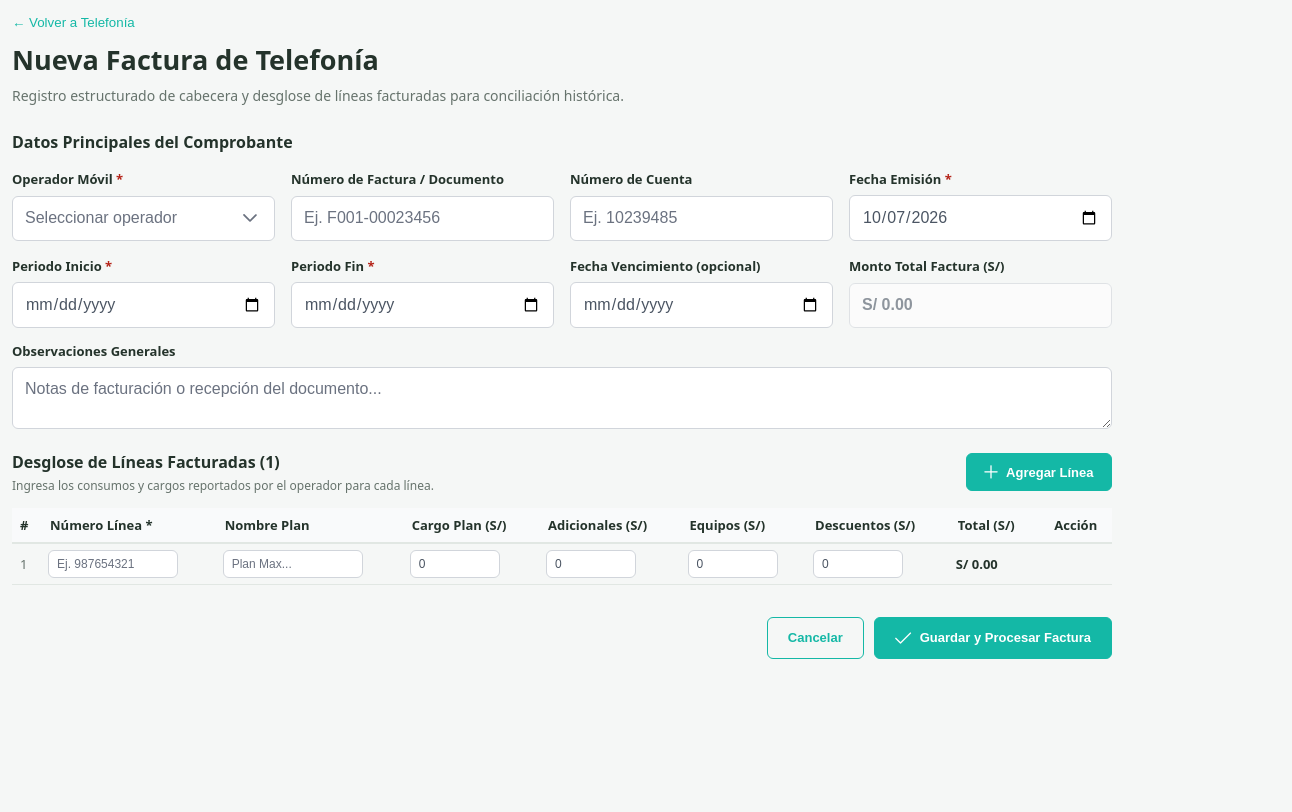
Test: Módulo de Facturación y Conciliación de Telefonía › permite registrar una nueva factura con detalle estructurado
This screenshot has width=1292, height=812.
Expected: the heading "Nueva Factura de Telefonía" is shown, x1=12 y1=41 x2=379 y2=78
Expected: the heading "Desglose de Líneas Facturadas (1)" is shown, x1=12 y1=450 x2=280 y2=472
Step 1. Click the button "Guardar y Procesar Factura" → coordinates (993, 638), box x1=874 y1=617 x2=1112 y2=659
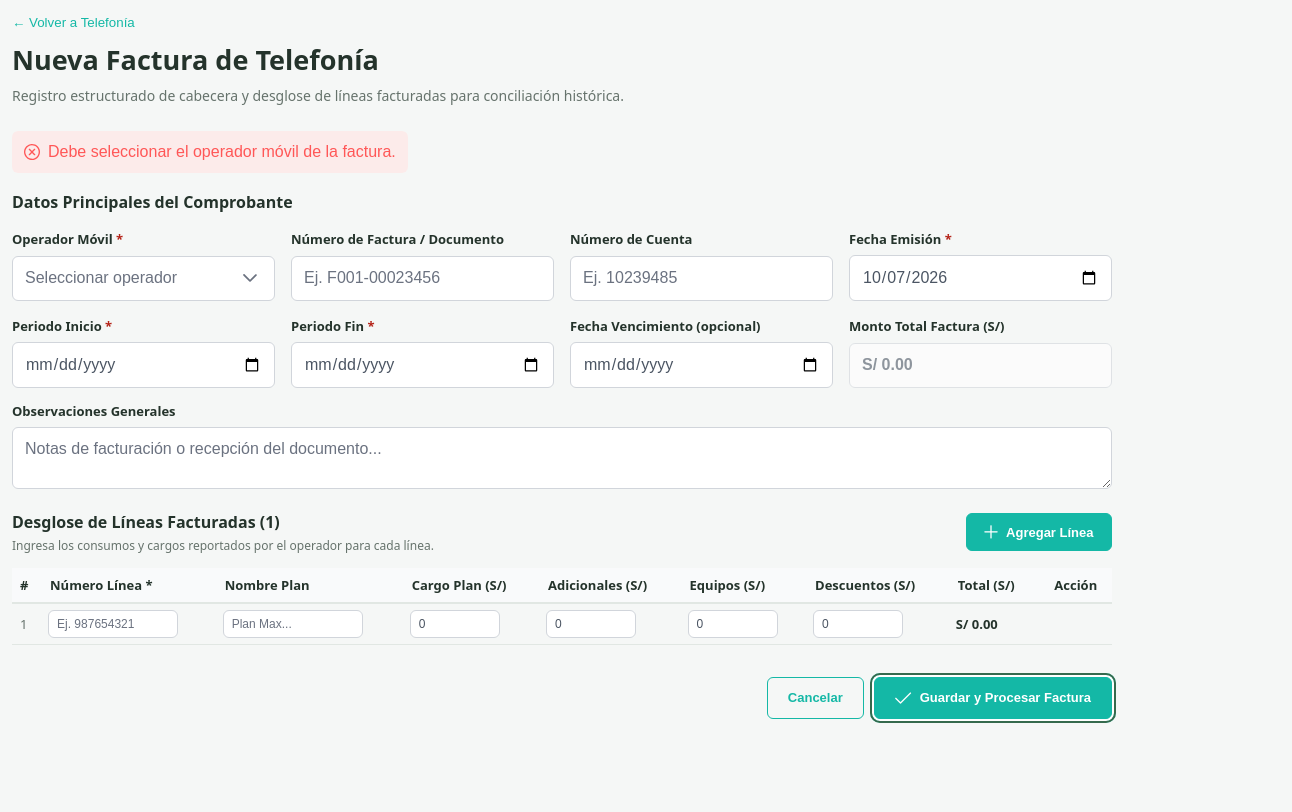
Now the text "Debe seleccionar el operador móvil de la factura." is shown, box x1=48 y1=143 x2=396 y2=161
